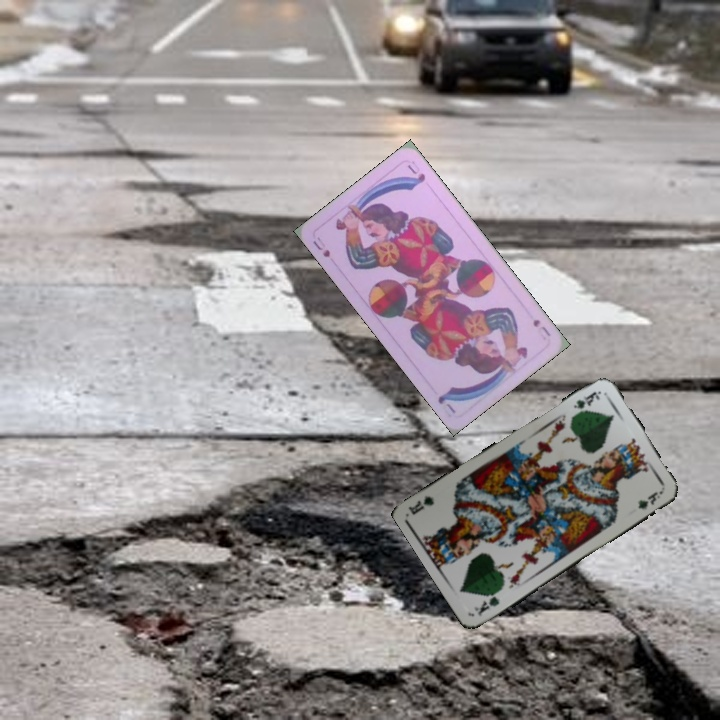GK: (470, 586, 504, 619), (569, 387, 602, 418)
SU: (309, 232, 333, 260), (529, 315, 553, 339)
